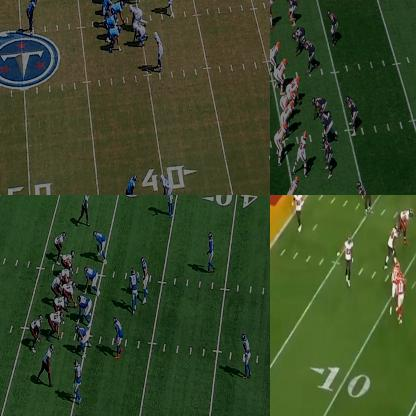CENTER: (64, 281, 78, 310), (288, 74, 302, 97), (115, 0, 126, 19)
DB: (291, 195, 305, 231), (342, 238, 352, 282), (242, 337, 251, 381), (154, 30, 162, 71), (286, 0, 299, 24), (75, 359, 82, 401), (208, 230, 214, 271), (162, 174, 173, 194), (167, 195, 175, 217), (359, 180, 370, 194)
LB: (348, 96, 360, 132), (141, 258, 150, 299), (129, 271, 138, 312), (327, 10, 337, 43), (326, 138, 334, 176), (114, 318, 122, 346), (363, 195, 375, 211), (164, 0, 175, 15)
QB: (51, 274, 62, 298), (101, 0, 112, 17)
SKILL: (295, 133, 309, 173), (276, 126, 289, 162), (43, 344, 54, 385), (396, 273, 404, 323), (79, 195, 91, 225), (31, 316, 42, 347), (27, 0, 36, 37), (284, 176, 299, 194), (390, 264, 396, 308), (52, 314, 62, 338), (124, 176, 136, 194), (56, 234, 66, 254), (270, 0, 276, 28)
